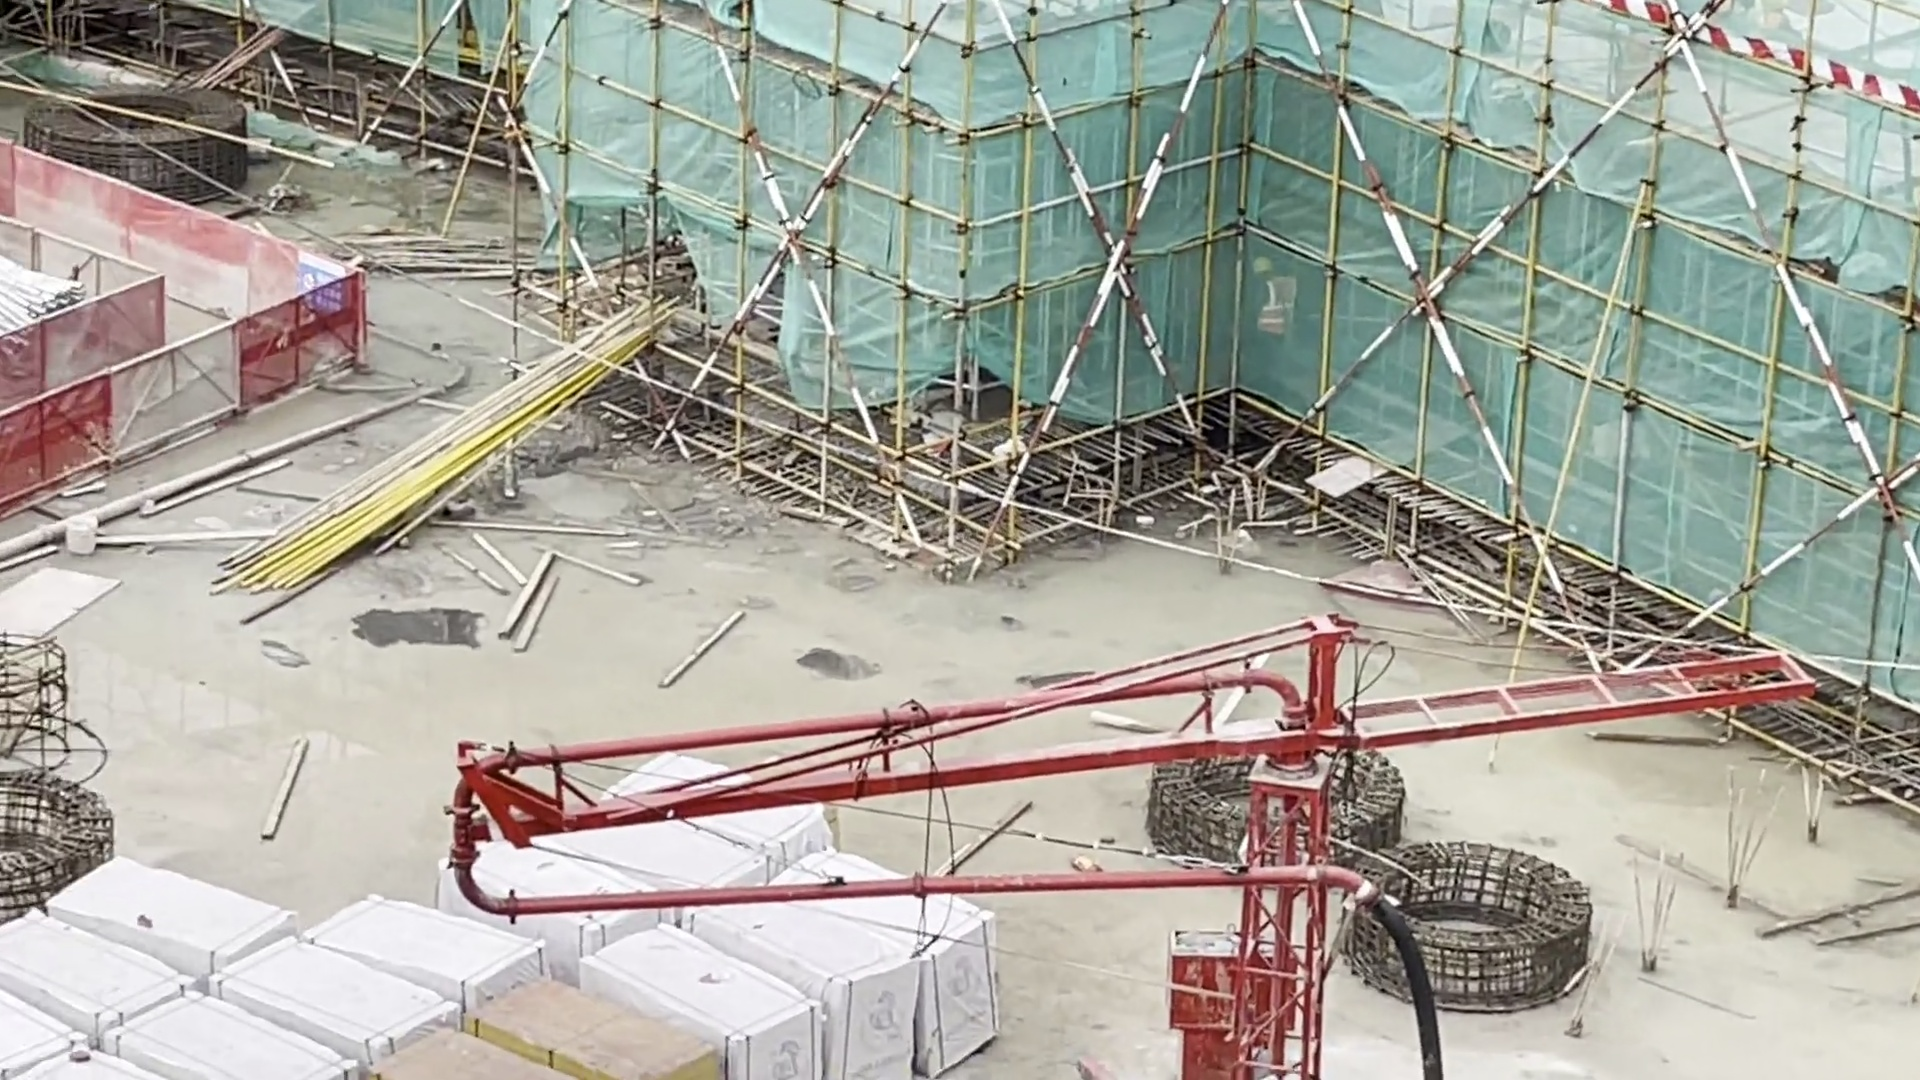slogan: (301, 251, 343, 314)
